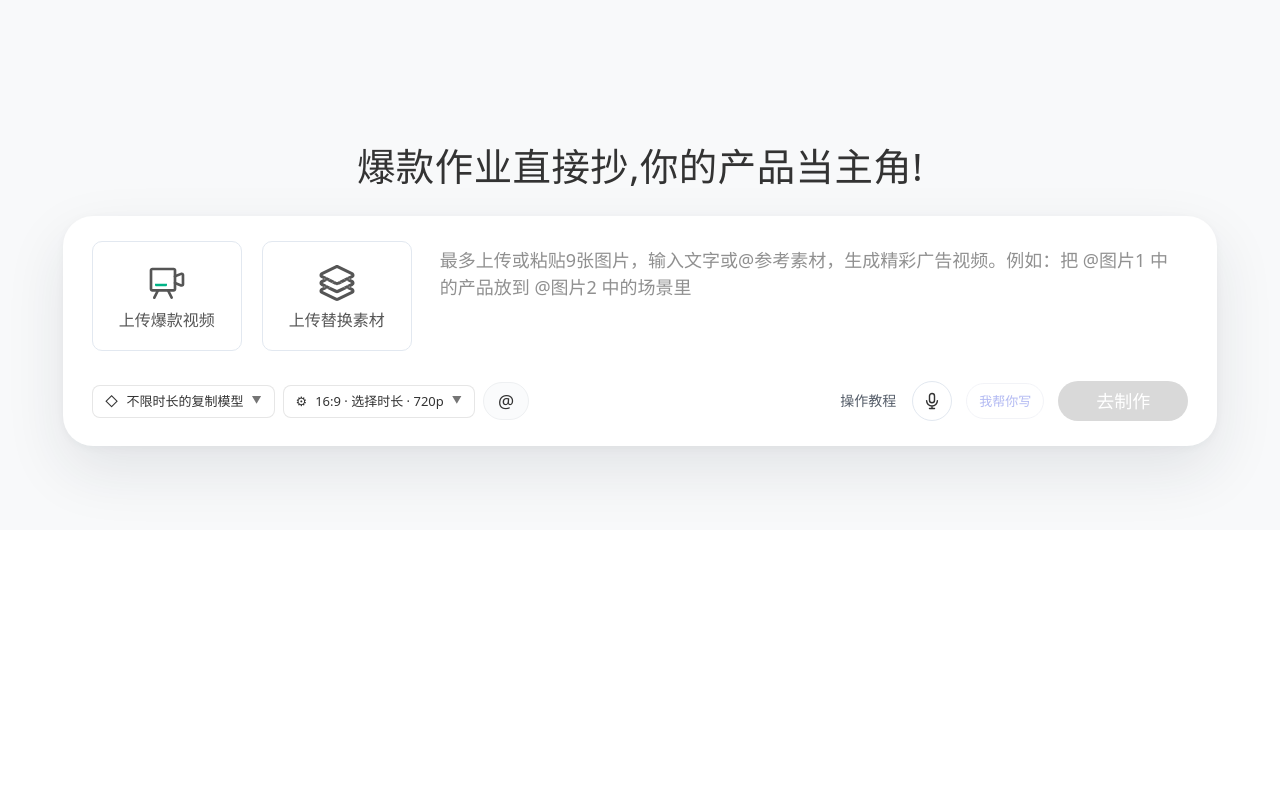
Scenario: HotCopyEntry project asset access › lets the duration be chosen before any model, starting unselected
Click the button with aria-label "创作参数" at [379, 401], box [282,385,475,418]
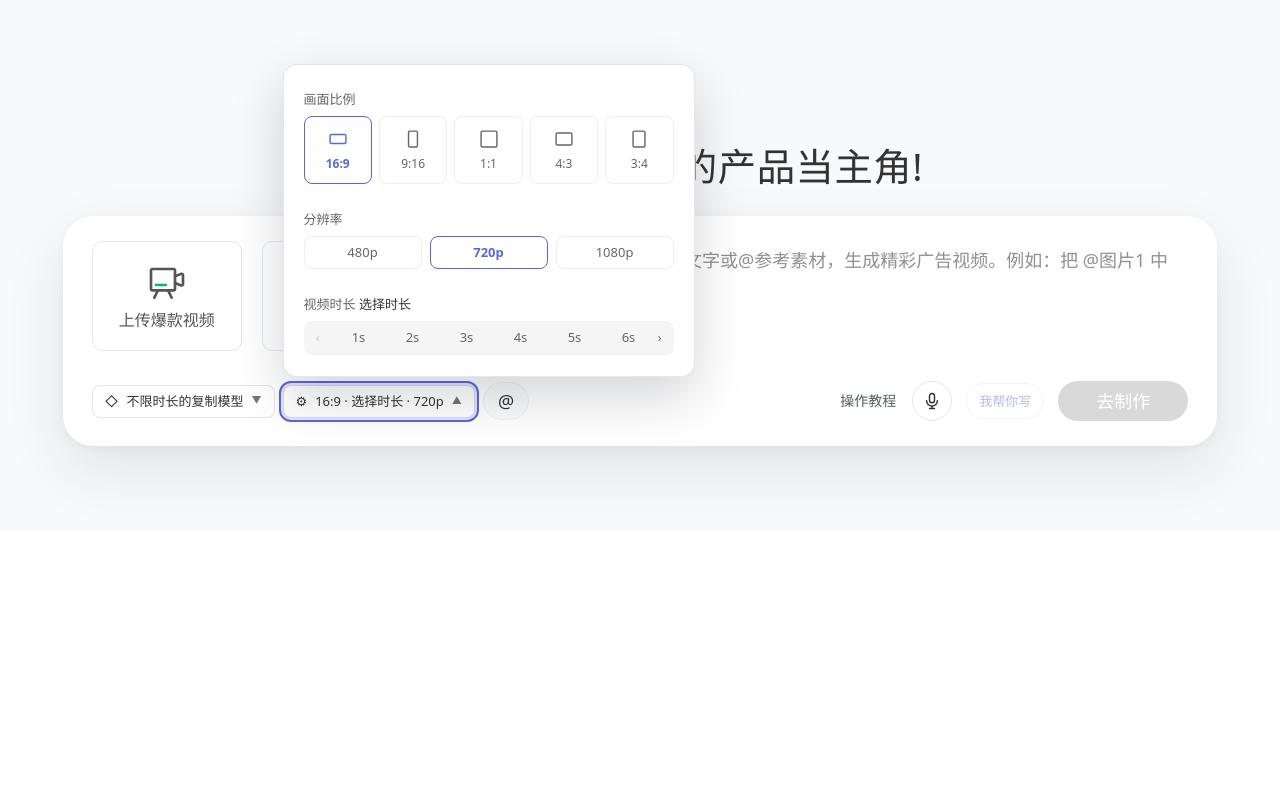
Result: the element named "视频时长" is shown at [332,324,644,351]
